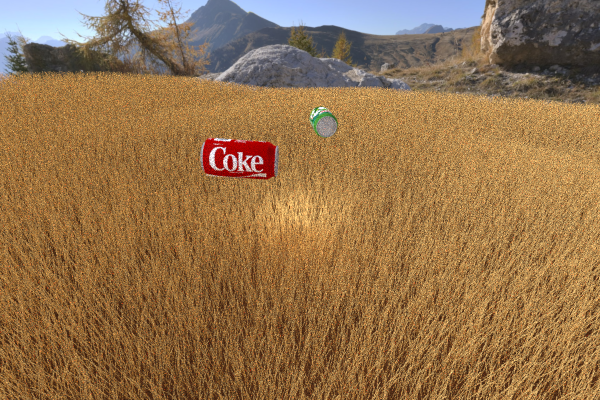Plastic Bottle: (426, 110, 553, 209), (200, 137, 278, 179), (309, 106, 337, 137)
